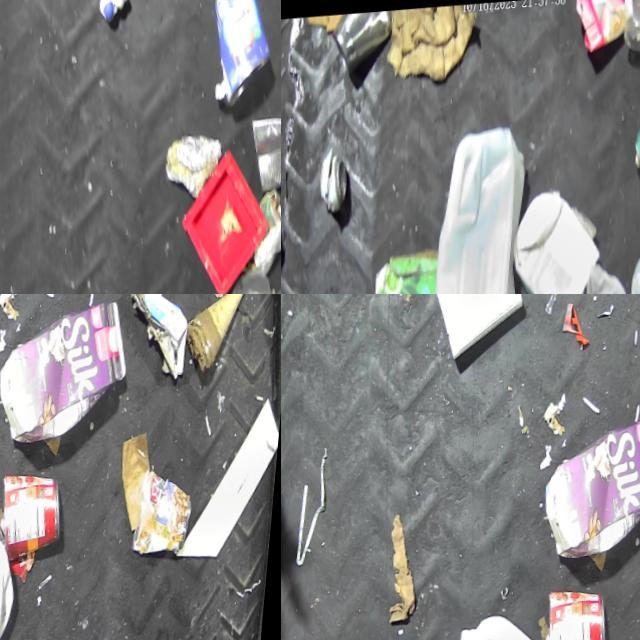can: (0, 459, 79, 561), (210, 0, 281, 107), (327, 9, 400, 76), (550, 582, 622, 640), (317, 144, 358, 218), (254, 104, 281, 195)
milk_jug: (417, 119, 551, 294), (0, 484, 43, 640)
non_white_jug: (542, 413, 640, 563)
plastic_bottle: (616, 0, 640, 55)
